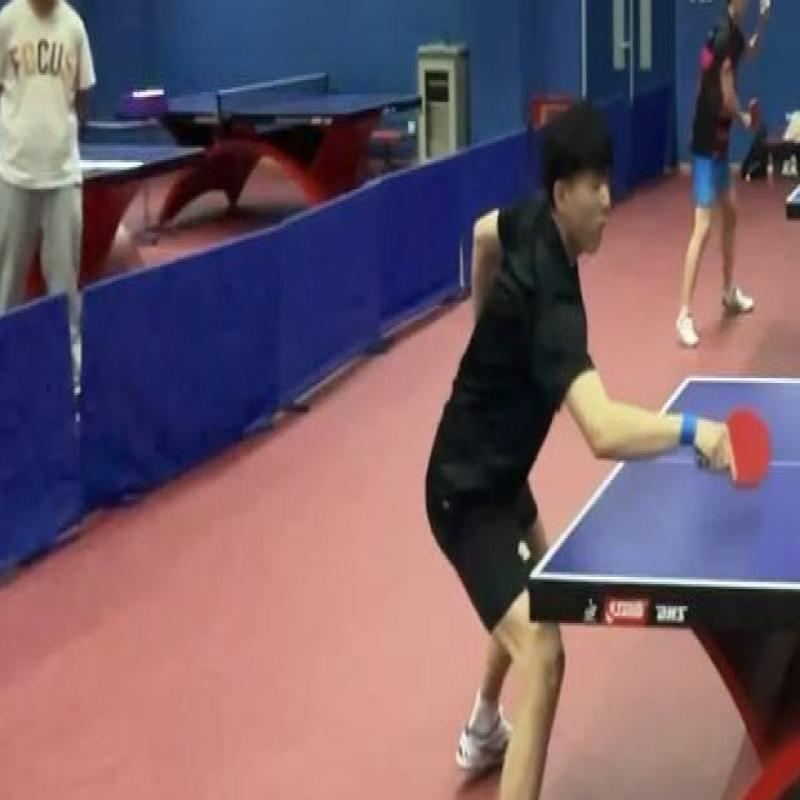bats: (714, 403, 780, 494)
